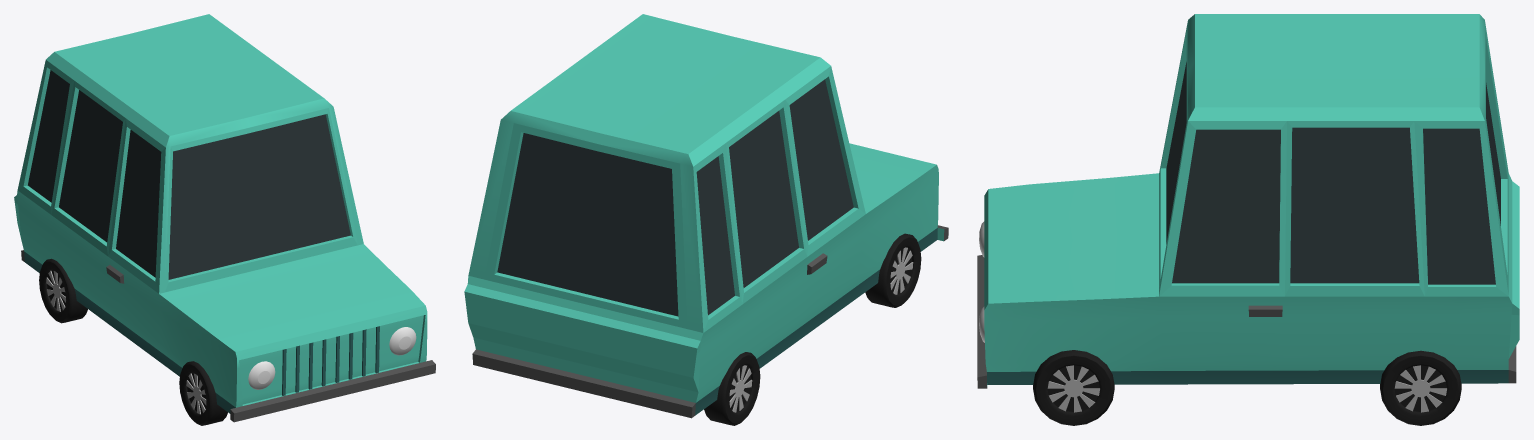
File: car_teal.fbx
3 renders of one model, left to right at view 1: azimuth 30°, elevation 25°; view 2: azimuth 150°, elevation 25°; view 3: azimuth 270°, elevation 25°, orthographic. The views are drawn at different scales.
Visible parts, largest first — view 1: Car, Wheel_front_right, Wheel_back_right, Headlight_left, Headlight_right; view 2: Car, Wheel_front_right, Wheel_back_right; view 3: Car, Wheel_front_left, Wheel_back_left.
Boxes of the visible parts, <box> form: Car: <box>14,14,435,422</box>; Wheel_front_right: <box>179,361,227,425</box>; Wheel_back_right: <box>39,258,87,323</box>; Headlight_left: <box>389,327,416,355</box>; Headlight_right: <box>248,361,275,389</box>; Car: <box>464,14,948,418</box>; Wheel_front_right: <box>865,233,921,307</box>; Wheel_back_right: <box>704,352,760,425</box>; Car: <box>977,14,1519,388</box>; Wheel_front_left: <box>1033,350,1114,425</box>; Wheel_back_left: <box>1380,350,1461,425</box>.
Size of the model in its own units: 4.4 by 4.92 by 7.94.
